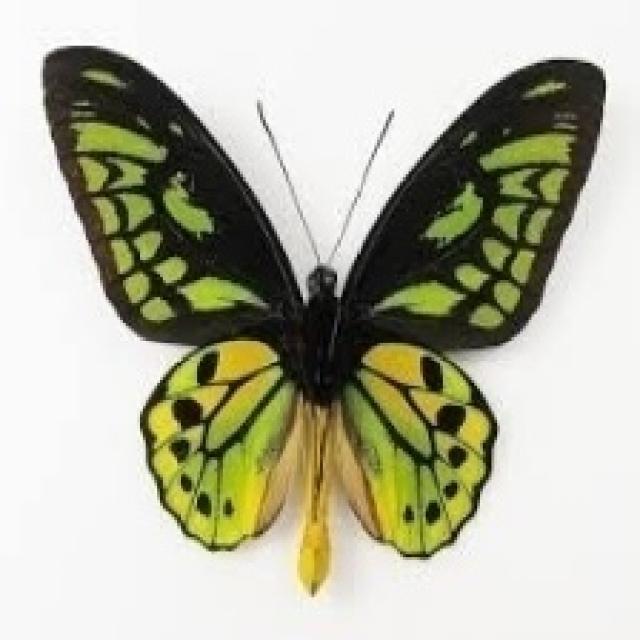butterfly: (37, 40, 606, 594)
